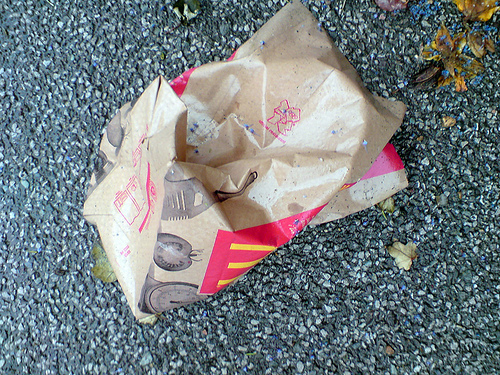litter: (81, 1, 408, 321)
